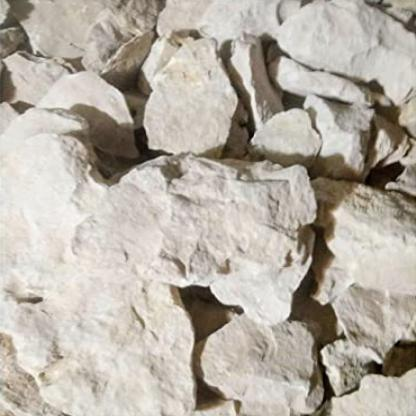Sedimentary_Limestone: (85, 135, 330, 328), (263, 0, 415, 170), (97, 20, 249, 173), (301, 180, 405, 374)
